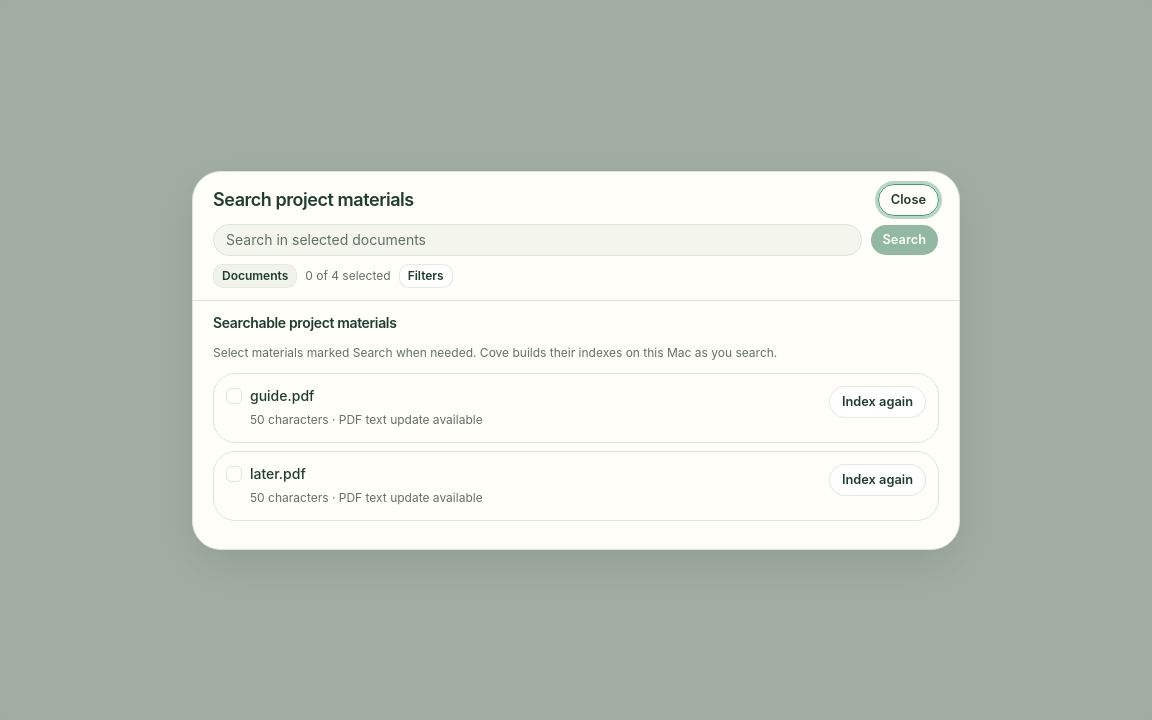
Test: Project search refreshes reindexed PDF metadata when it fails
Click the checkbox named "guide.pdf" next to "guide.pdf": (234, 396) top-left (226, 388), bottom-right (242, 404)
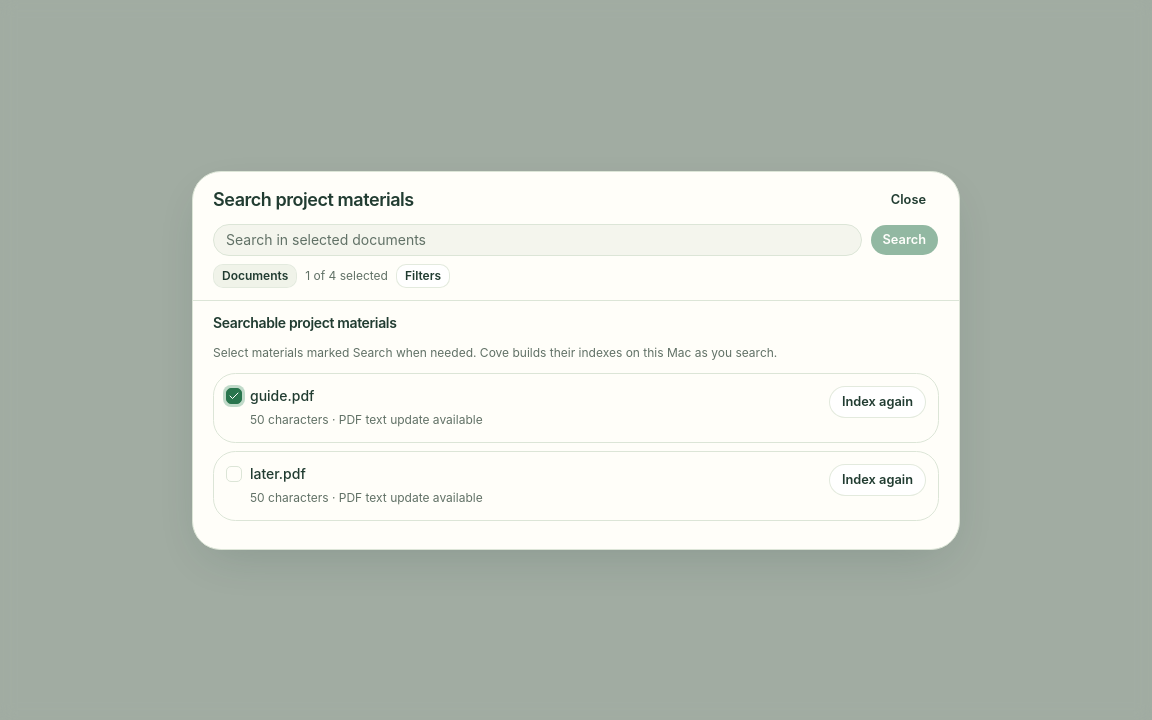
Click the checkbox named "later.pdf" next to "later.pdf": (234, 474) top-left (226, 466), bottom-right (242, 482)
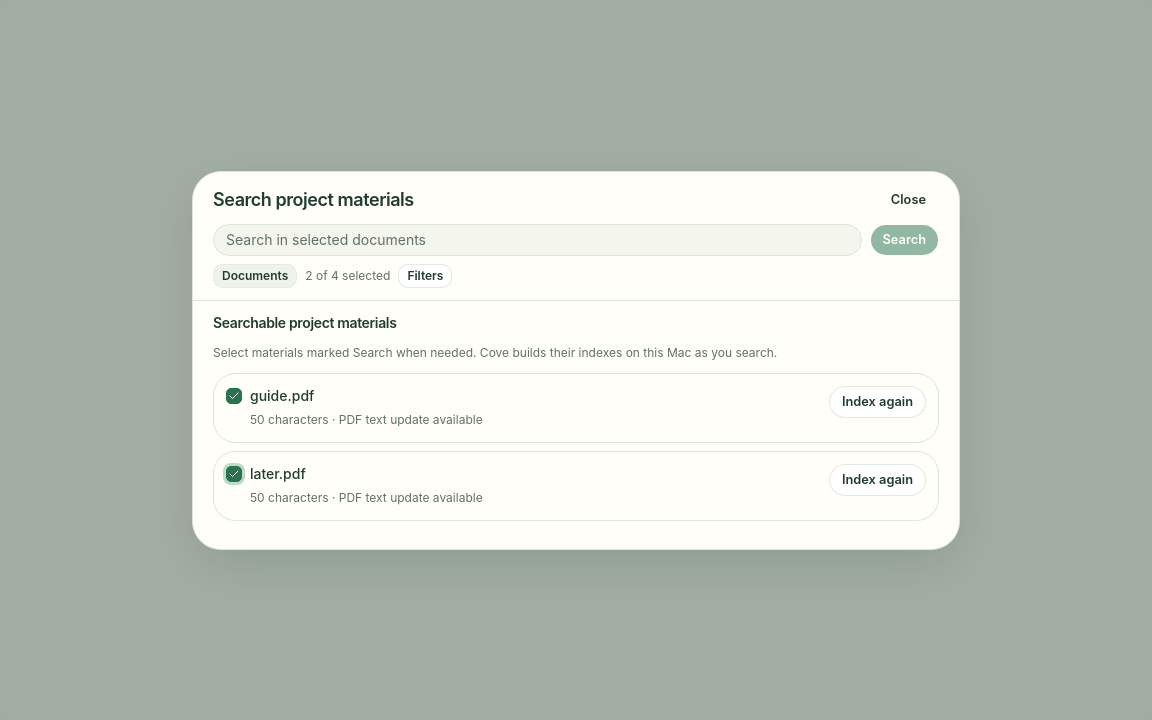
Expected: the number of buttons "Index again" is 2, top-left (829, 386), bottom-right (926, 418); top-left (829, 464), bottom-right (926, 496)
In the field named "What are you looking for?": (537, 240) top-left (213, 224), bottom-right (862, 256), type "recovery"
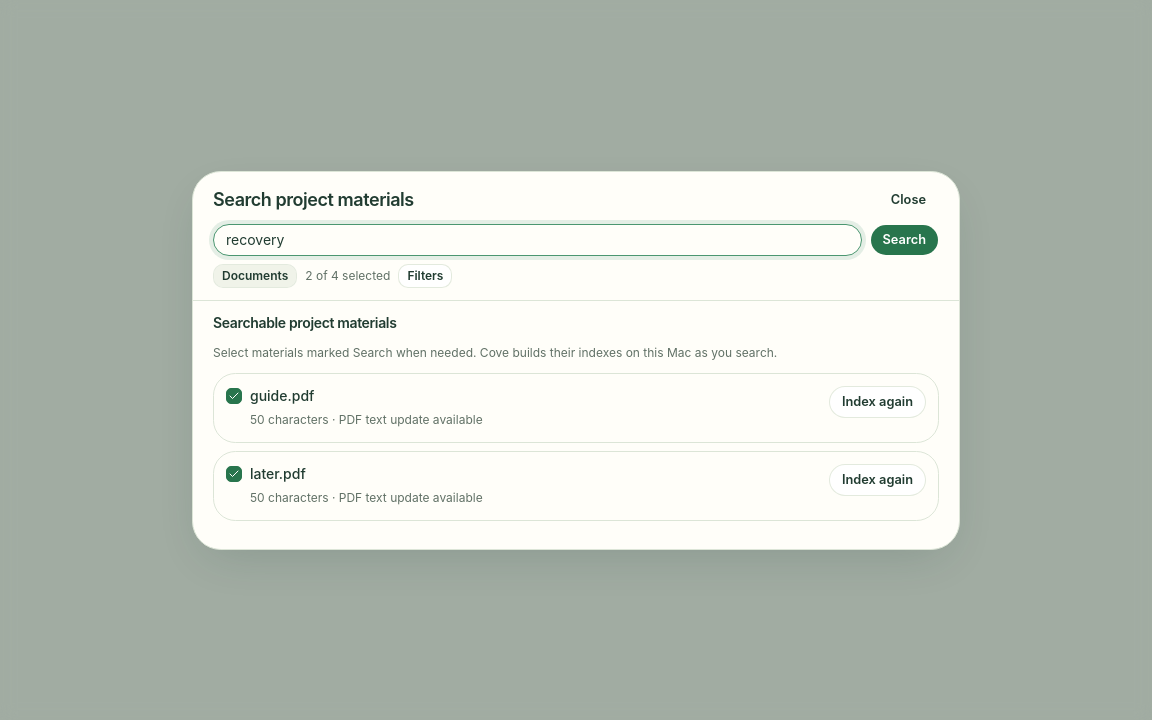
Click the button with aria-label "Search selected documents": (904, 240) top-left (870, 224), bottom-right (939, 256)
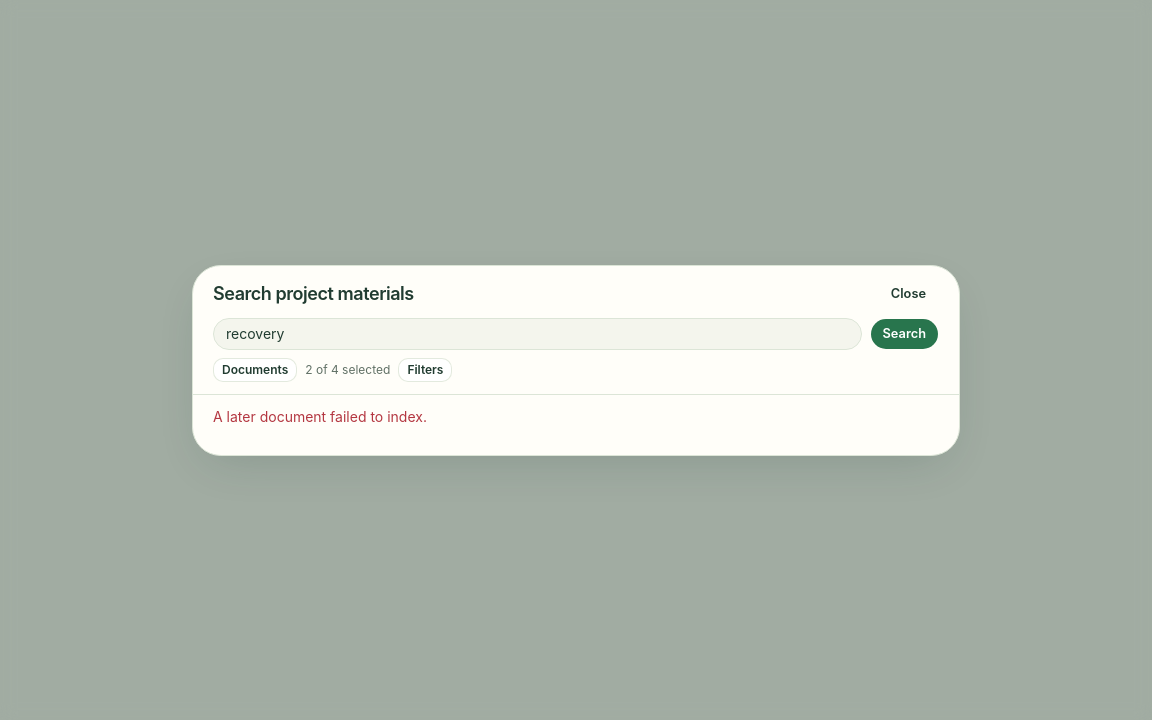
Expected: the text "A later document failed to index." is shown, top-left (213, 408), bottom-right (427, 424)
Click the button "Documents": (255, 370) top-left (213, 358), bottom-right (297, 382)
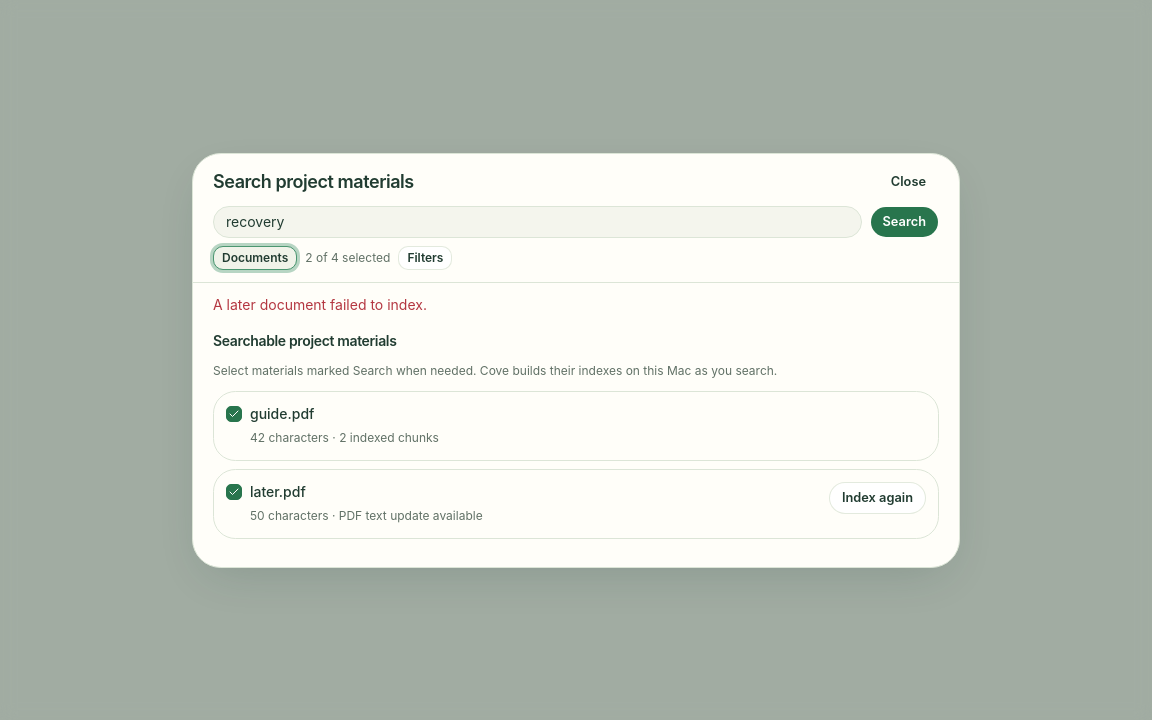
Expected: the text "42 characters · 2 indexed chunks" is shown, top-left (250, 430), bottom-right (439, 444)
Expected: the number of buttons "Index again" is 1, top-left (829, 482), bottom-right (926, 514)
